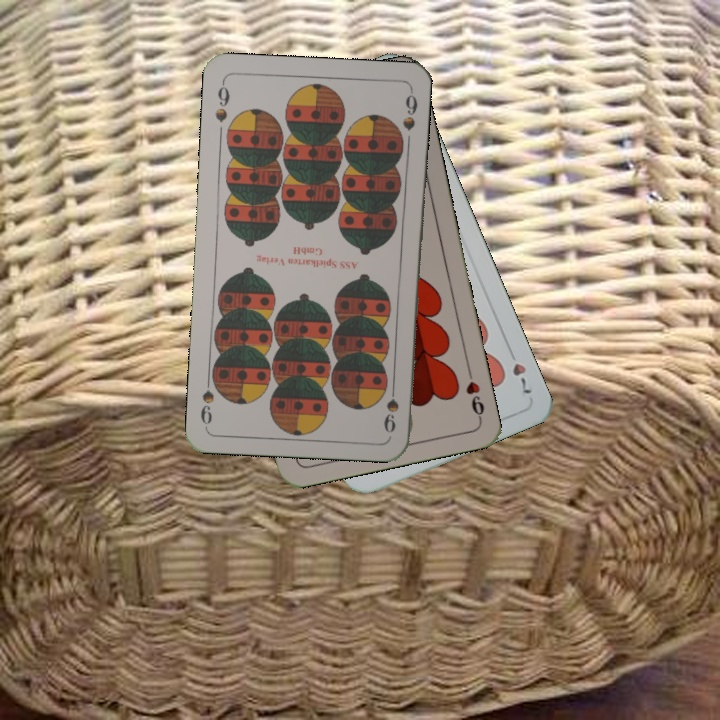H7: (503, 343, 535, 397)
H9: (462, 364, 487, 422)
S9: (380, 377, 402, 436), (211, 78, 232, 125)
